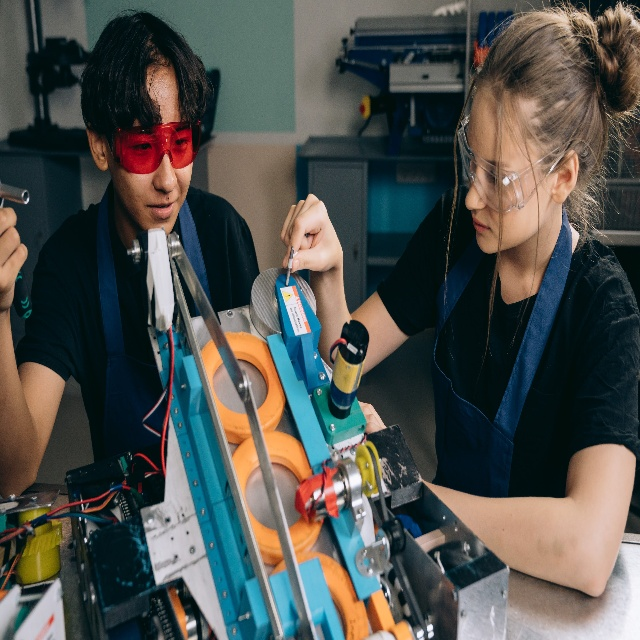Gafas: (456, 114, 569, 216), (109, 118, 201, 172)
Sin_guantes: (281, 193, 338, 278), (0, 205, 28, 308)
